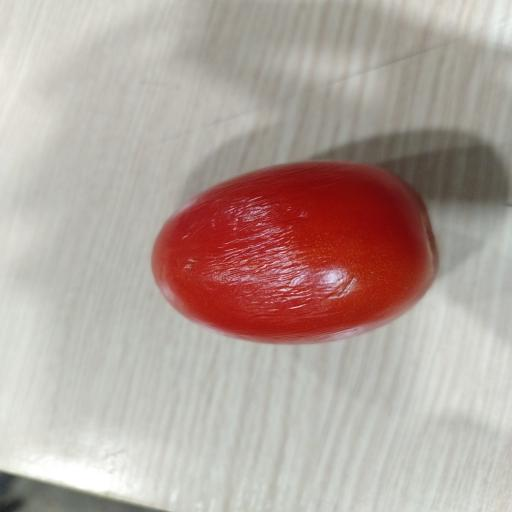spoiled: (152, 161, 437, 343)
